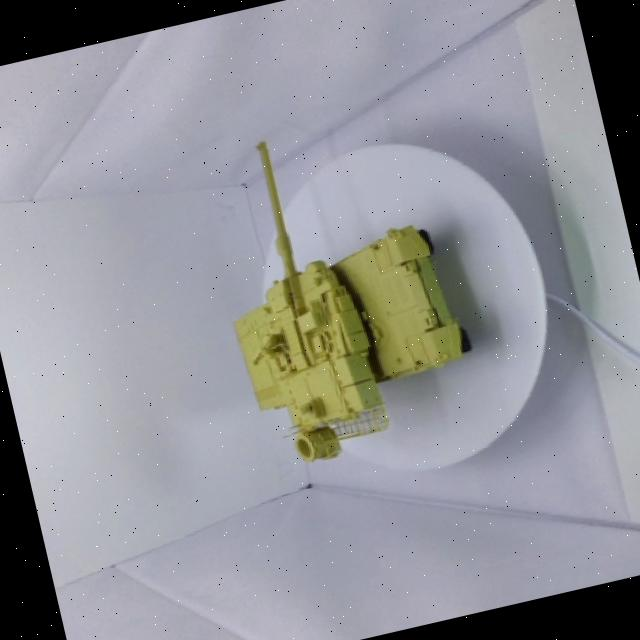korea tank: (149, 79, 522, 514)
